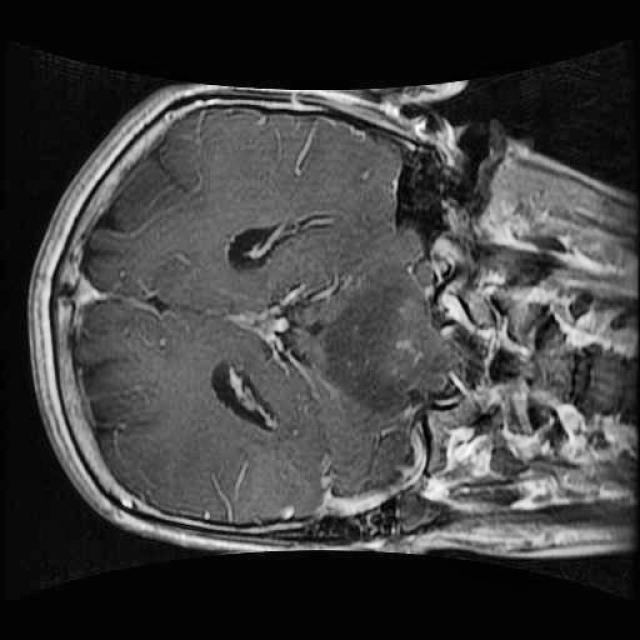Tumor: (310, 260, 478, 430)
